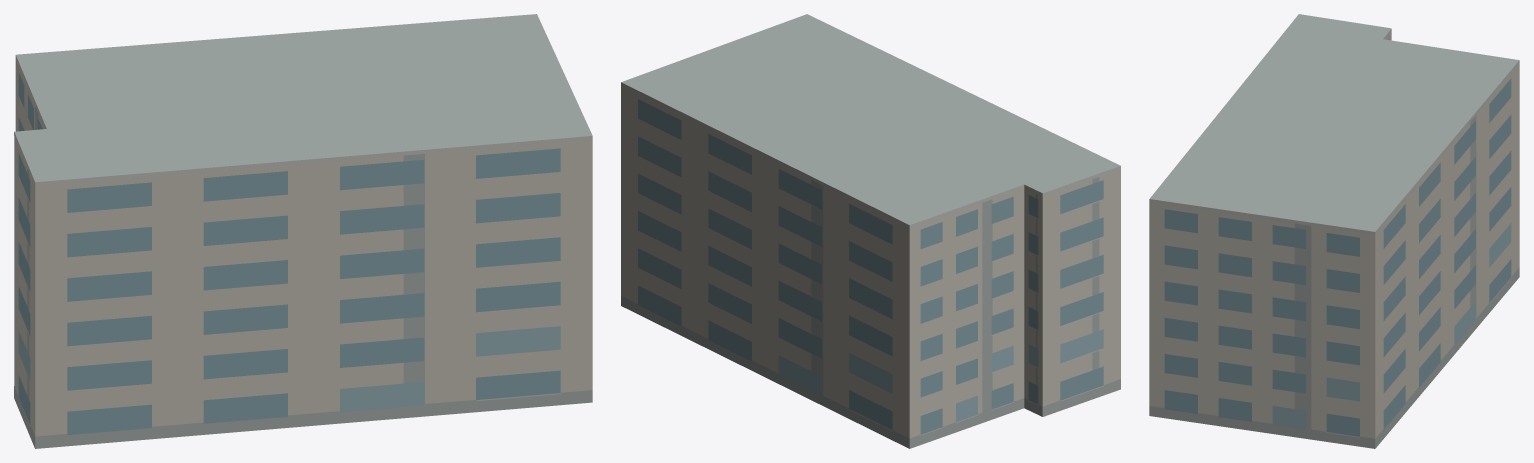
File: survey-upis-32837018.glb
The picture shows the model from 3 angles, left to right: view 1: azimuth 30°, elevation 25°; view 2: azimuth 150°, elevation 25°; view 3: azimuth 270°, elevation 25°; orthographic projection. The views are drawn at different scales.
Visible parts, largest first — view 1: survey-upis-32837018.tmp; view 2: survey-upis-32837018.tmp; view 3: survey-upis-32837018.tmp.
Part boxes in pixels (x1,y1,x2,y2): survey-upis-32837018.tmp: (14,14,592,448); survey-upis-32837018.tmp: (621,14,1120,448); survey-upis-32837018.tmp: (1149,14,1519,448).
Bounding box in the file's own units: 34.9 × 16.2 × 25.06.
